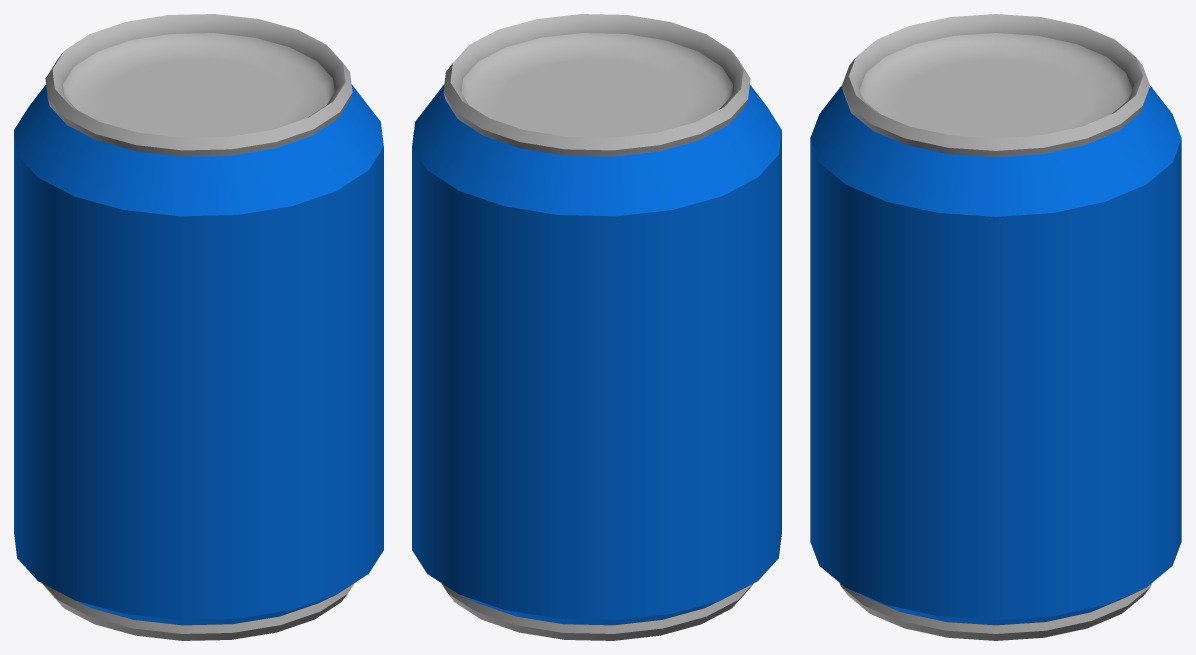
File: Soda_Can.fbx
3 renders of one model, left to right at view 1: azimuth 30°, elevation 25°; view 2: azimuth 150°, elevation 25°; view 3: azimuth 270°, elevation 25°, orthographic.
Visible parts, largest first — view 1: SodaCan; view 2: SodaCan; view 3: SodaCan.
Boxes of the visible parts, x1=… form: SodaCan: x1=14, y1=14, x2=383, y2=640; SodaCan: x1=412, y1=14, x2=781, y2=640; SodaCan: x1=810, y1=14, x2=1181, y2=640.
Size of the model in its own units: 8.42 by 12.48 by 8.42.
